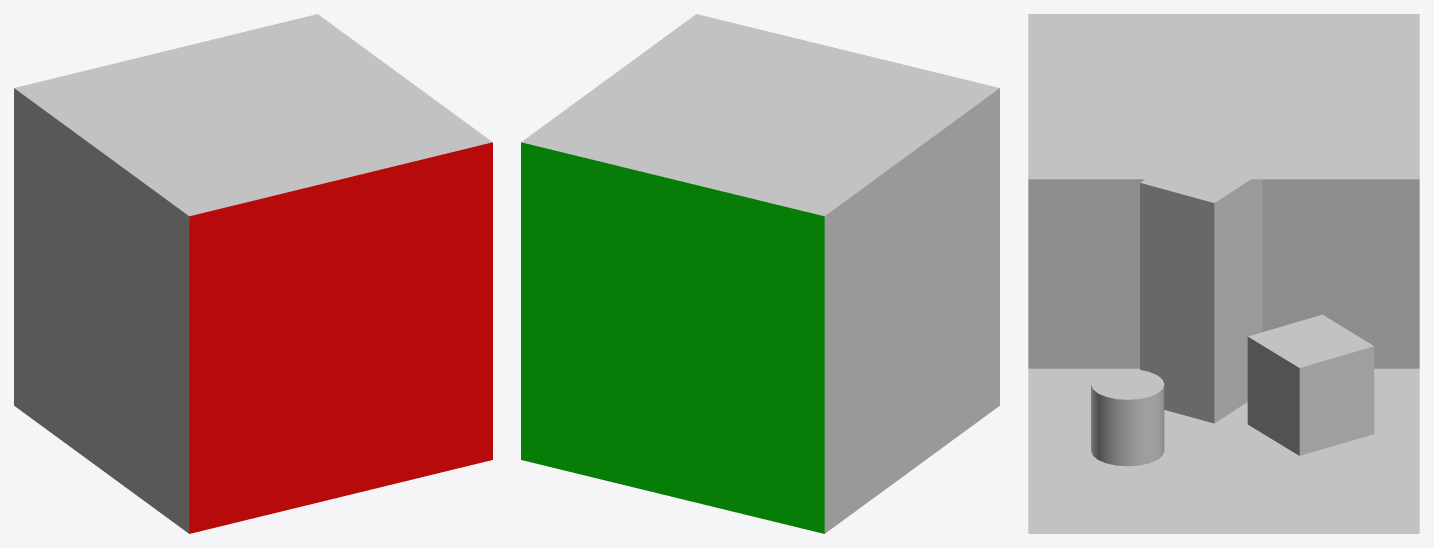
Rendered from cornellCyl.obj.
3 renders of one model, left to right at view 1: azimuth 30°, elevation 25°; view 2: azimuth 150°, elevation 25°; view 3: azimuth 270°, elevation 25°, orthographic. The views are drawn at different scales.
Parts seen in each view (by area): view 1: pCube1 polySurface1 polySurface4, pCube1 polySurface3 polySurface1; view 2: pCube1 polySurface1 polySurface4, polySurface2 pCube1; view 3: pCube1 polySurface1 polySurface4, pCube2, pCube3, pCylinder1.
Part boxes in pixels (left/top/right/bottom): pCube1 polySurface1 polySurface4: left=14, top=14, right=492, bottom=533; pCube1 polySurface3 polySurface1: left=189, top=142, right=492, bottom=533; pCube1 polySurface1 polySurface4: left=521, top=14, right=999, bottom=533; polySurface2 pCube1: left=521, top=142, right=824, bottom=533; pCube1 polySurface1 polySurface4: left=1028, top=14, right=1419, bottom=533; pCube2: left=1140, top=179, right=1262, bottom=423; pCube3: left=1247, top=314, right=1374, bottom=455; pCylinder1: left=1091, top=369, right=1164, bottom=466.
Size of the model in its own units: 10.67 by 10.67 by 10.67.
